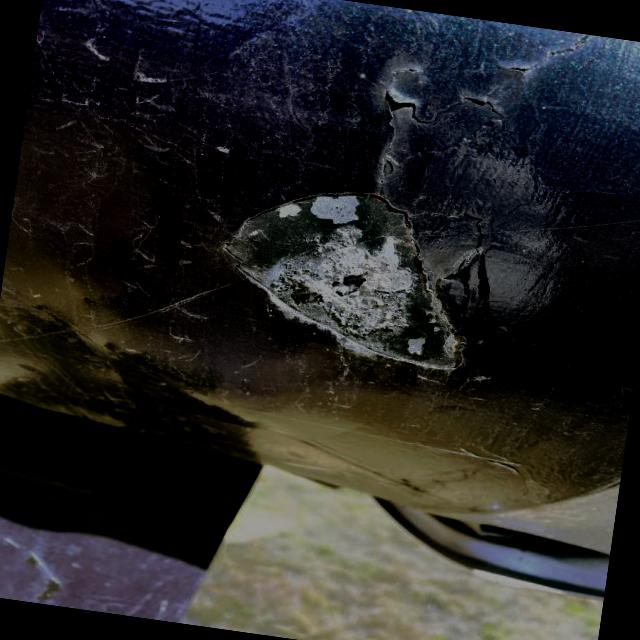crack: (382, 83, 508, 138), (484, 36, 586, 90)
dent: (189, 163, 515, 390)
